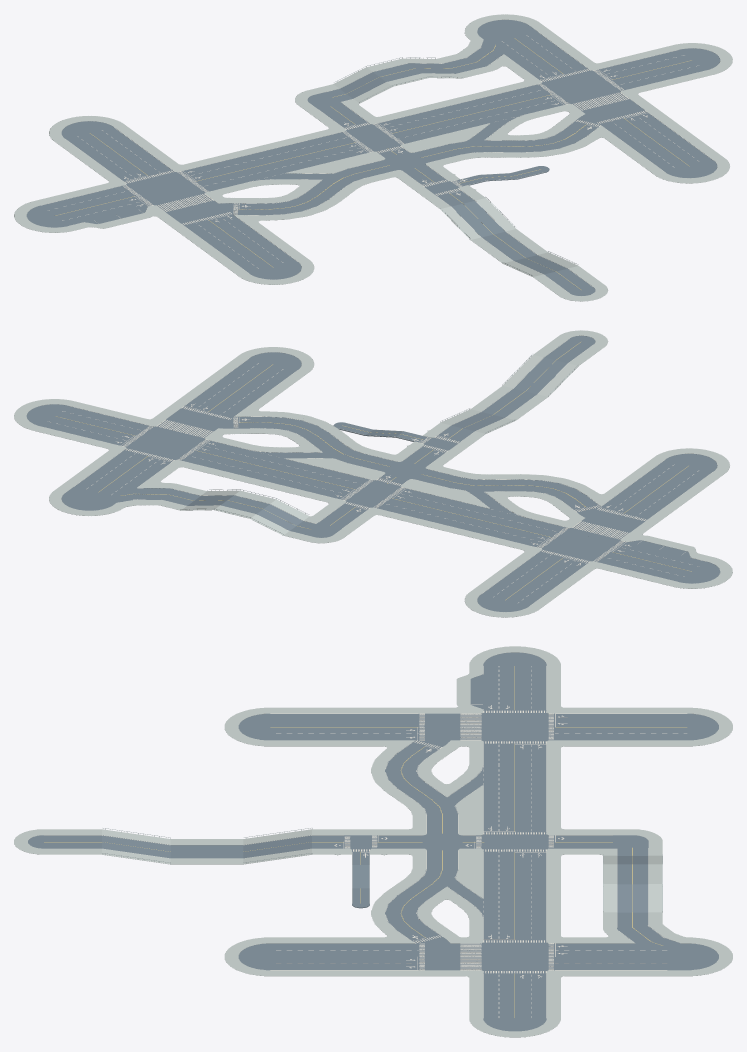
Rendered from complex.glb.
3 views of the same model, one above another, from view 1: azimuth 30°, elevation 25°; view 2: azimuth 150°, elevation 25°; view 3: azimuth 270°, elevation 25° (orthographic). The views are drawn at different scales.
Parts seen in each view (by area): view 1: Road_surface, Sidewalks, Ramp_surface, Crosswalks, Lane_markings, Lane_edges, Junction_markings; view 2: Road_surface, Sidewalks, Ramp_surface, Crosswalks, Lane_markings, Lane_edges, Junction_markings; view 3: Road_surface, Sidewalks, Ramp_surface, Crosswalks, Lane_markings, Lane_edges.
Boxes of the visible parts, left/top/right/bottom form: Road_surface: left=26, top=20, right=720, bottom=295; Sidewalks: left=14, top=14, right=732, bottom=301; Ramp_surface: left=340, top=63, right=567, bottom=274; Crosswalks: left=123, top=69, right=647, bottom=225; Lane_markings: left=48, top=35, right=698, bottom=289; Lane_edges: left=41, top=33, right=712, bottom=292; Junction_markings: left=124, top=69, right=648, bottom=222; Road_surface: left=26, top=336, right=720, bottom=611; Sidewalks: left=14, top=330, right=732, bottom=617; Ramp_surface: left=187, top=357, right=567, bottom=530; Crosswalks: left=122, top=406, right=647, bottom=562; Lane_markings: left=48, top=342, right=698, bottom=602; Lane_edges: left=70, top=340, right=712, bottom=605; Junction_markings: left=116, top=403, right=630, bottom=565; Road_surface: left=28, top=652, right=718, bottom=1031; Sidewalks: left=14, top=646, right=732, bottom=1037; Ramp_surface: left=102, top=835, right=648, bottom=912; Crosswalks: left=344, top=710, right=553, bottom=973; Lane_markings: left=44, top=666, right=686, bottom=1017; Lane_edges: left=44, top=666, right=686, bottom=1017.
Bounding box in the file's own units: 510 × 13.51 × 397.
